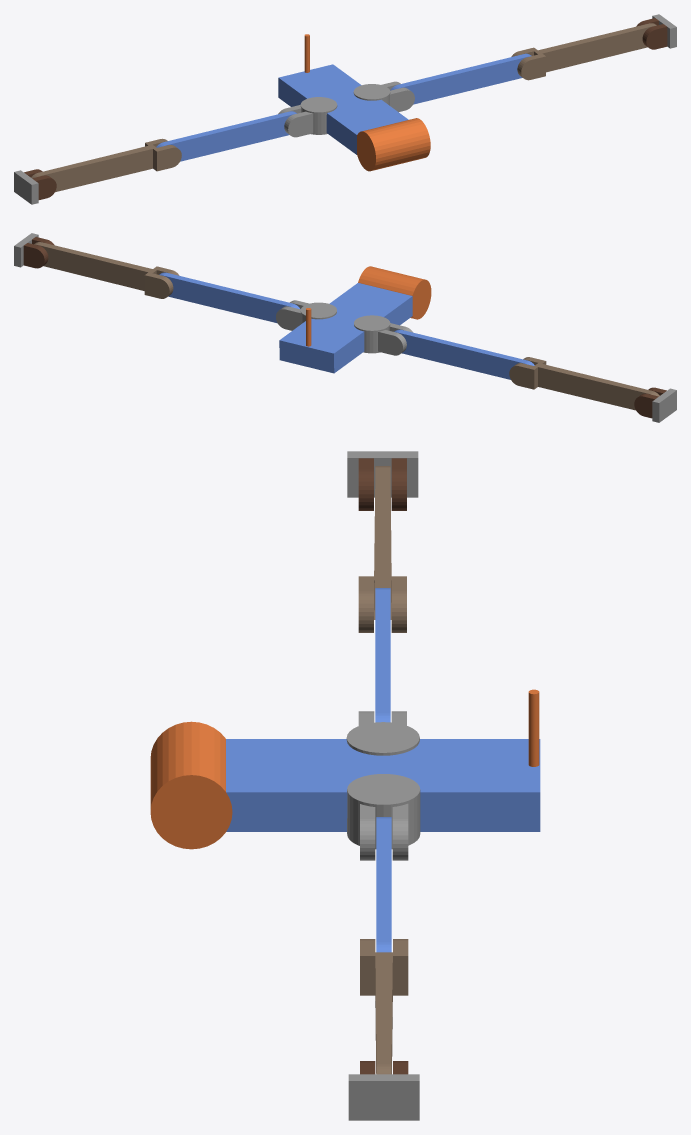
File: two-legs_v0-0.gltf
3 views of the same model, one above another, from view 1: azimuth 30°, elevation 25°; view 2: azimuth 150°, elevation 25°; view 3: azimuth 270°, elevation 25° (orthographic). The views are drawn at different scales.
Visible parts, largest first — view 1: Chassis, LowerLegRight2, LowerLegLeft2, UpperLegLeft2, UpperLegRight2, ShoulderRight2, ShoulderLeft2, FootRight2, FootLeft2; view 2: Chassis, LowerLegLeft2, LowerLegRight2, UpperLegLeft2, UpperLegRight2, ShoulderRight2, FootRight2, ShoulderLeft2, FootLeft2; view 3: Chassis, ShoulderLeft2, LowerLegRight2, LowerLegLeft2, FootLeft2, FootRight2, ShoulderRight2, UpperLegLeft2, UpperLegRight2.
Boxes of the visible parts, x1,y1,x2,y2 form: Chassis: (278,34,430,171); LowerLegRight2: (31,138,181,192); LowerLegLeft2: (511,23,656,80); UpperLegLeft2: (390,53,531,104); UpperLegRight2: (156,111,296,161); ShoulderRight2: (278,97,337,137); ShoulderLeft2: (353,81,414,112); FootRight2: (14,169,56,204); FootLeft2: (636,14,676,49); Chassis: (279,266,431,373); LowerLegLeft2: (34,242,179,298); LowerLegRight2: (509,357,659,410); UpperLegLeft2: (159,272,300,323); UpperLegRight2: (394,329,534,379); ShoulderRight2: (354,315,412,355); FootRight2: (634,387,676,422); ShoulderLeft2: (276,300,336,330); FootLeft2: (14,233,54,268); Chassis: (150,689,540,849); ShoulderLeft2: (347,774,420,860); LowerLegRight2: (358,466,406,632); LowerLegLeft2: (360,939,408,1074); FootLeft2: (348,1061,419,1120); FootRight2: (347,451,418,510); ShoulderRight2: (346,711,419,755); UpperLegLeft2: (376,817,391,952); UpperLegRight2: (375,588,390,722).
Bounding box in the file's own units: 23.63 × 2.29 × 6.19.
